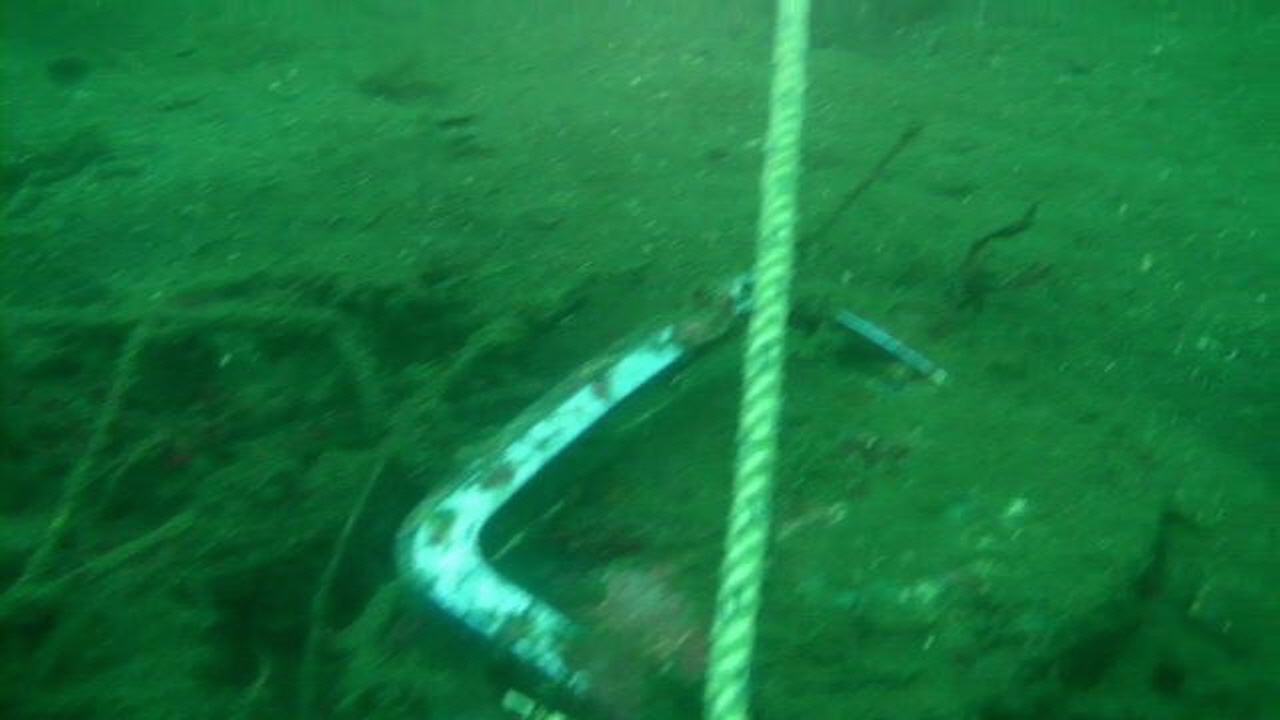rope: (700, 0, 811, 720)
